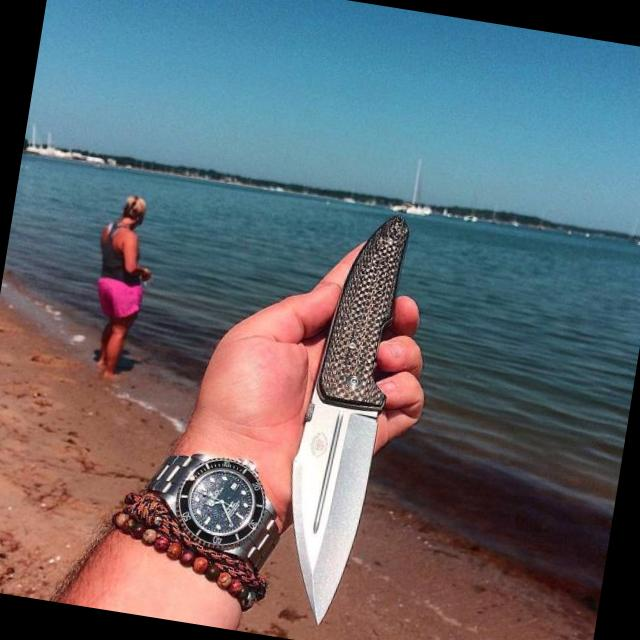Knife: (292, 216, 409, 623)
